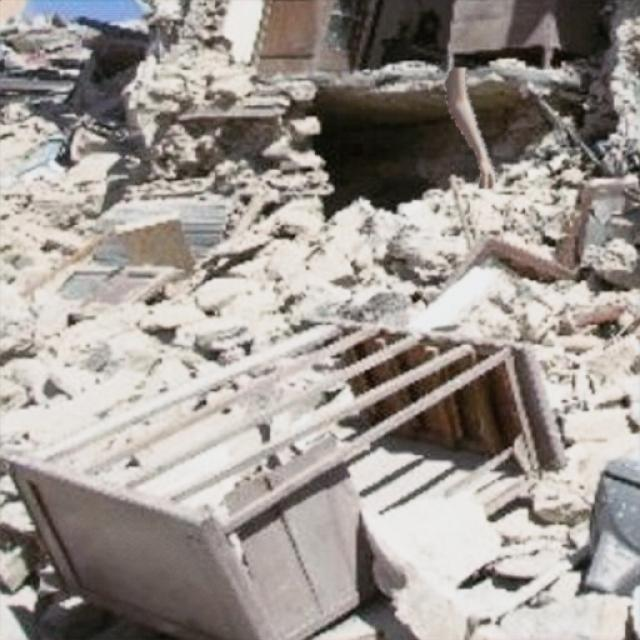Person in Rubble: (445, 68, 496, 188)
